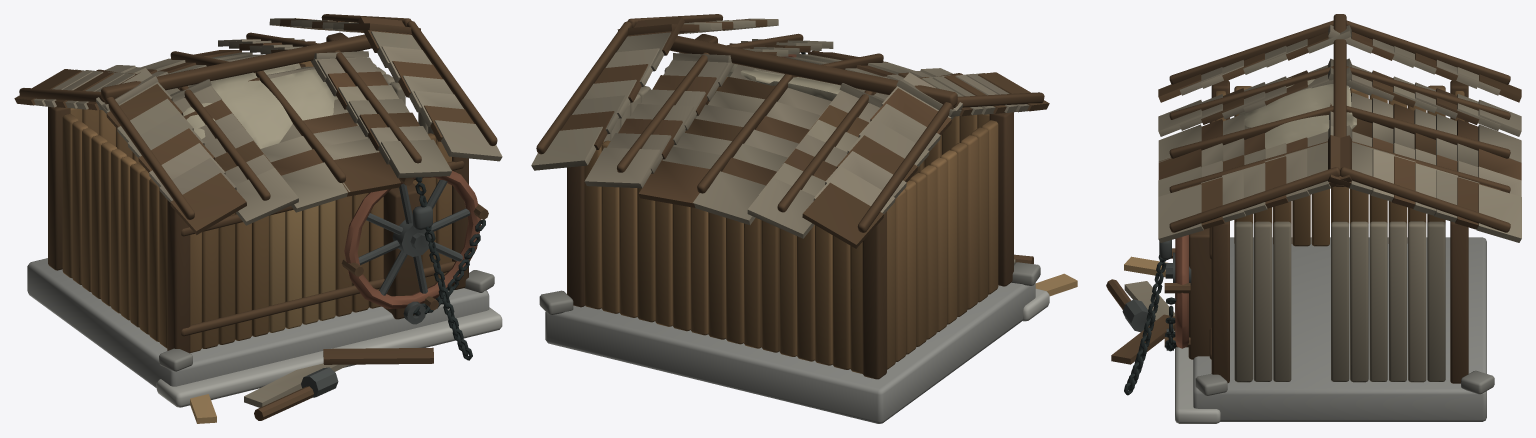
File: wheelhouse_m_b.glb
3 renders of one model, left to right at view 1: azimuth 30°, elevation 25°; view 2: azimuth 150°, elevation 25°; view 3: azimuth 270°, elevation 25°, orthographic. The views are drawn at different scales.
Parts seen in each view (by area): view 1: Surface; view 2: Surface; view 3: Surface.
Boxes of the visible parts, x1,y1,x2,y2 form: Surface: (14,14,502,423); Surface: (531,14,1077,423); Surface: (1106,14,1521,423).
Size of the model in its own units: 4.21 by 3.17 by 4.53.
